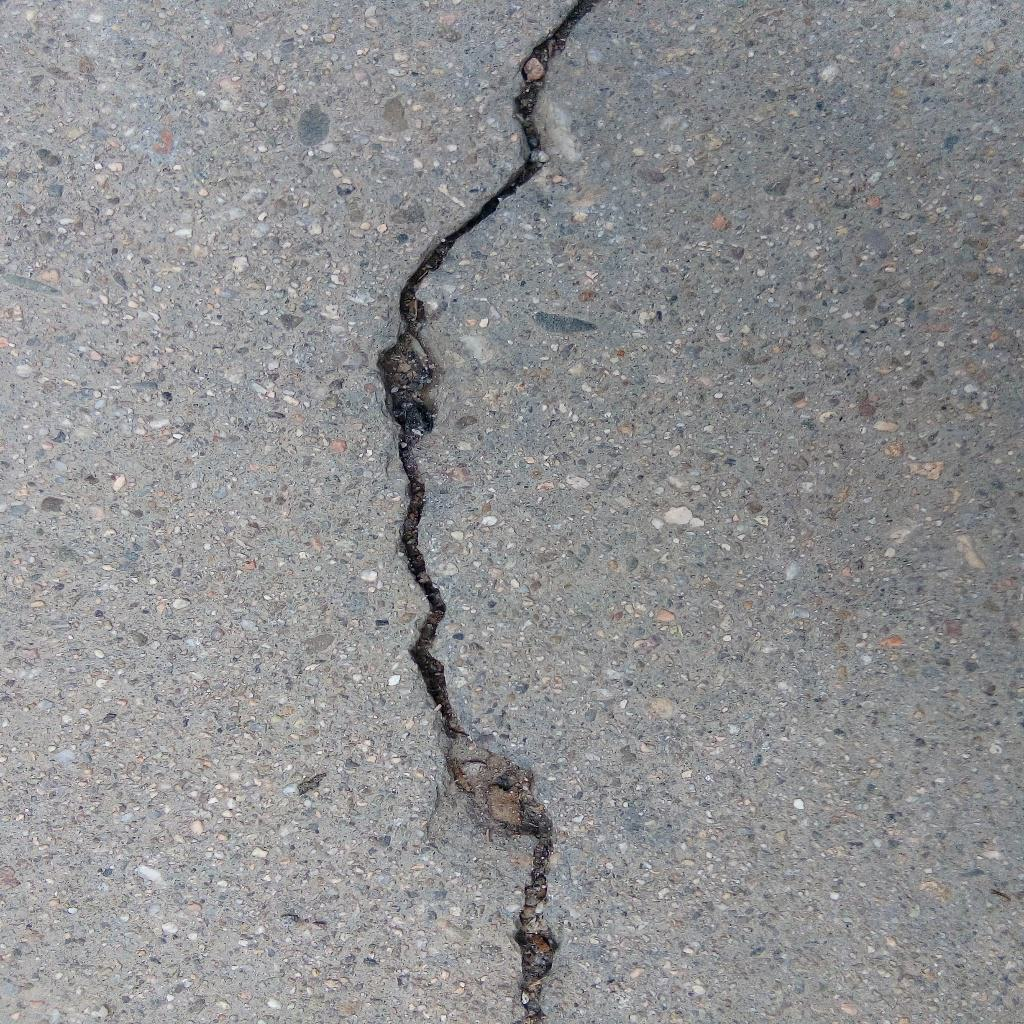Crack: (374, 1, 600, 1024)
